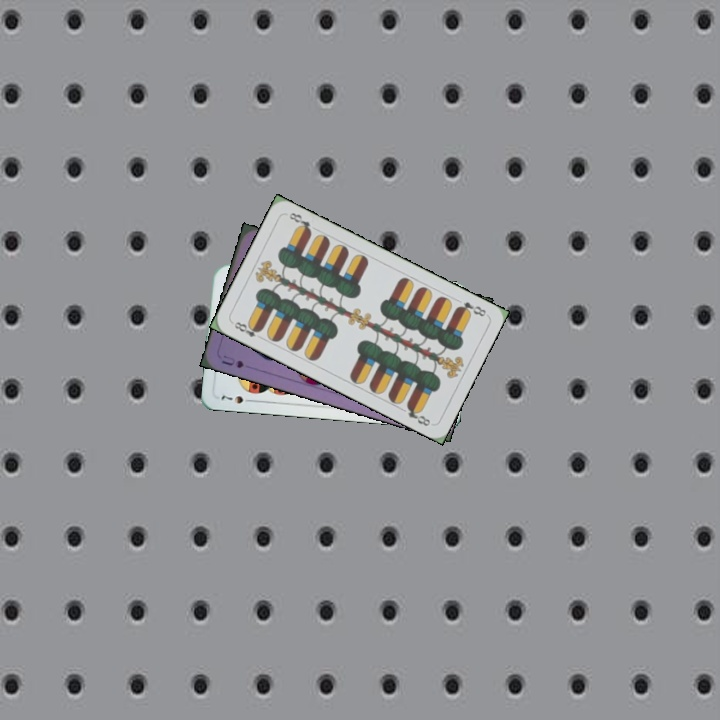E8: (228, 318, 266, 342), (453, 298, 489, 319)
S7: (217, 391, 256, 406)
SU: (217, 351, 246, 371)
